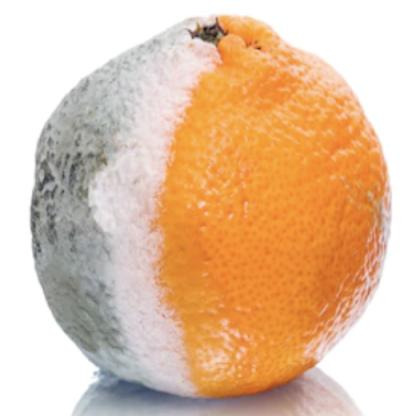rotten: (32, 18, 393, 399)
